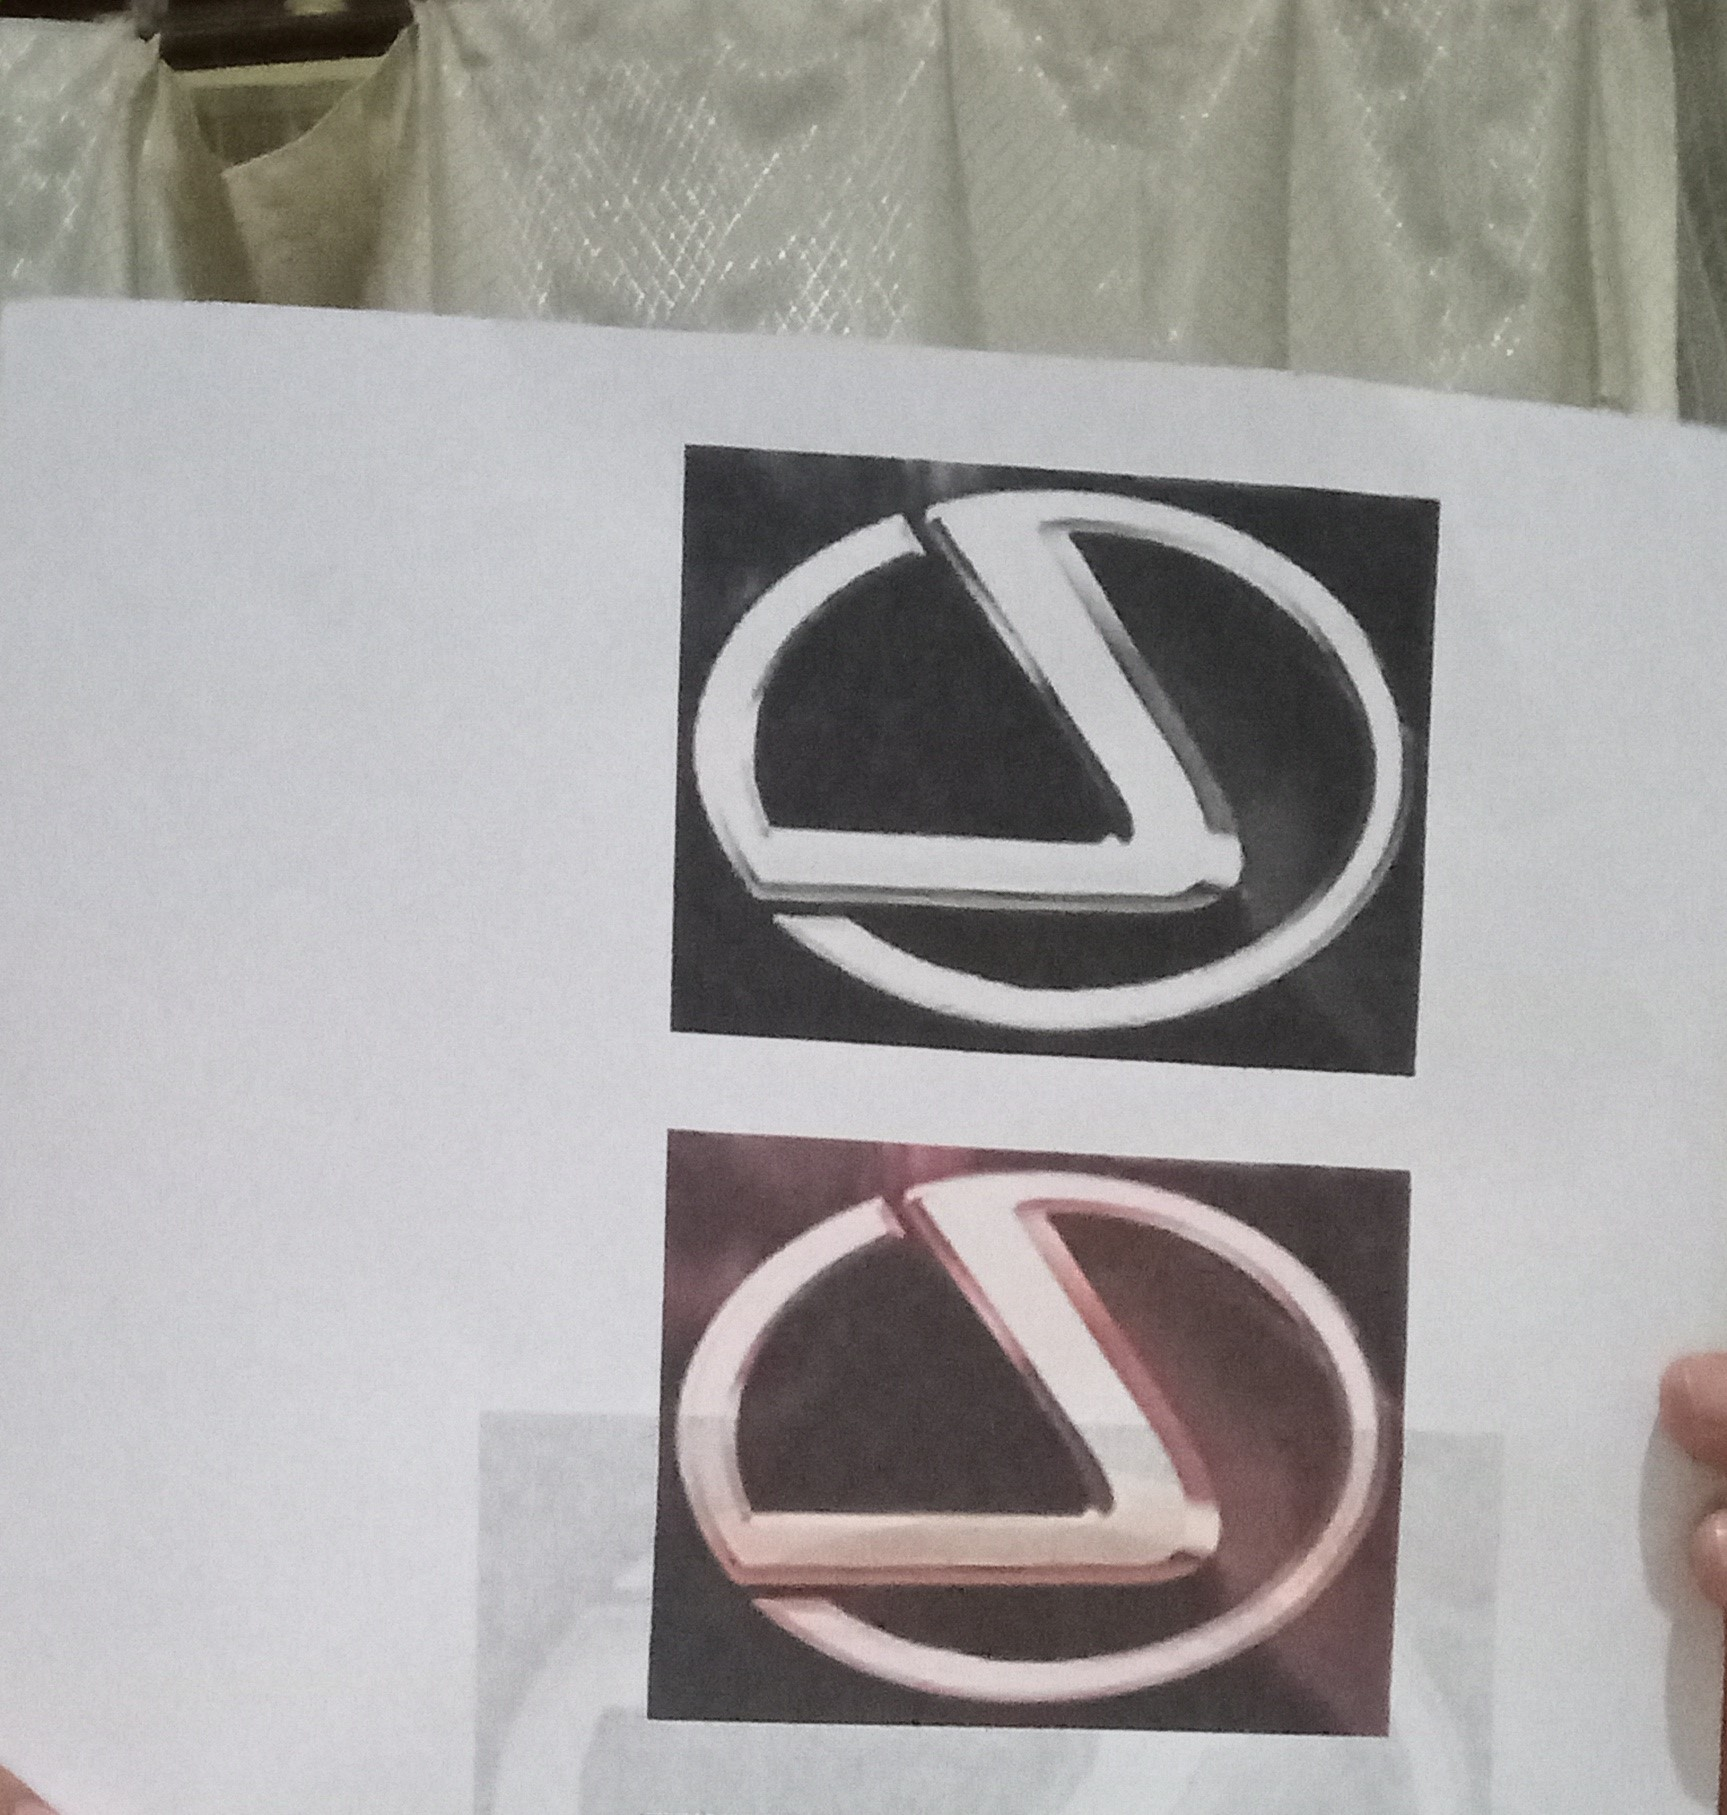Lexus: (680, 462, 1418, 1045), (655, 1149, 1397, 1711)
